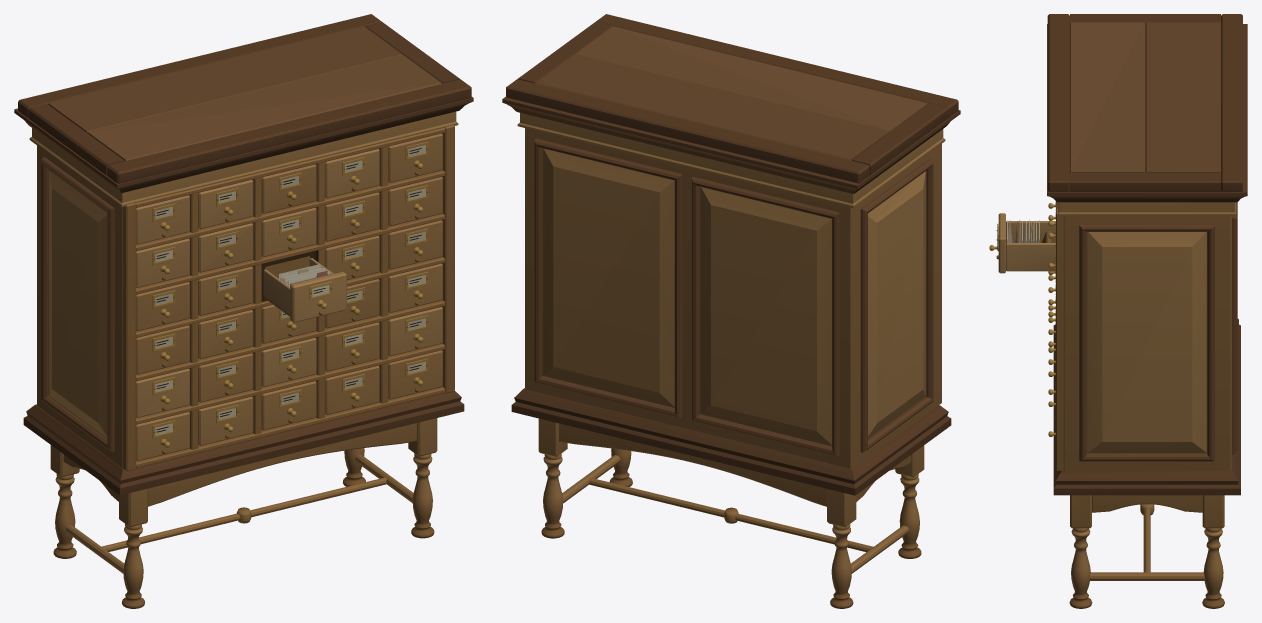
The model's file is card-catalogue.glb.
3 renders of one model, left to right at view 1: azimuth 30°, elevation 25°; view 2: azimuth 150°, elevation 25°; view 3: azimuth 270°, elevation 25°, orthographic. The views are drawn at different scales.
Parts seen in each view (by area): view 1: card_catalogue; view 2: card_catalogue; view 3: card_catalogue.
Boxes of the visible parts, left/top/right/bottom form: card_catalogue: left=14, top=14, right=473, bottom=608; card_catalogue: left=502, top=14, right=960, bottom=608; card_catalogue: left=989, top=14, right=1247, bottom=608.
Bounding box in the file's own units: 1.08 × 1.32 × 0.7002.
